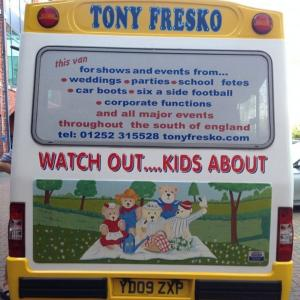Vehicle-registration-plate: (113, 280, 192, 300)
